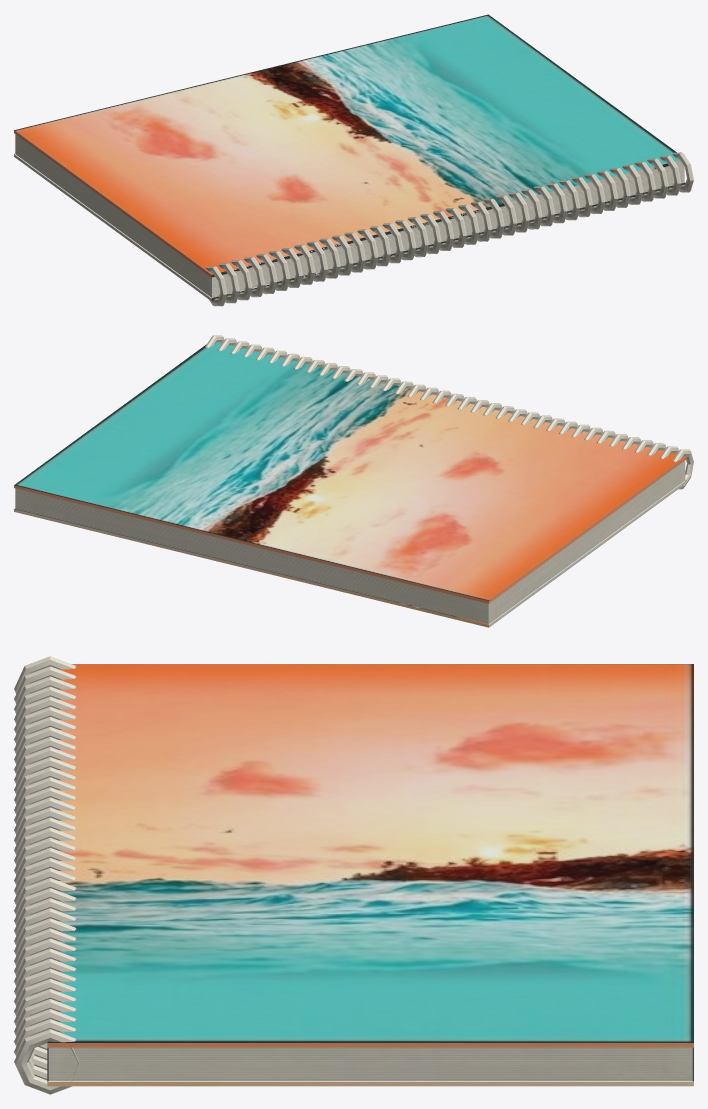
The model's file is cuaderno.fbx.
3 views of the same model, one above another, from view 1: azimuth 30°, elevation 25°; view 2: azimuth 150°, elevation 25°; view 3: azimuth 270°, elevation 25° (orthographic). The views are drawn at different scales.
Visible parts, largest first — view 1: Cube, Torus; view 2: Cube, Torus; view 3: Cube, Torus.
Part boxes in pixels (box(x1,y1,x2,y2)): Cube: box(14, 14, 685, 301); Torus: box(206, 152, 693, 306); Cube: box(14, 342, 686, 627); Torus: box(205, 335, 693, 489); Cube: box(47, 664, 693, 1086); Torus: box(14, 656, 80, 1094).
Bounding box in the file's own units: 63.93 × 5.17 × 48.46.
1 material, 1 textured.
